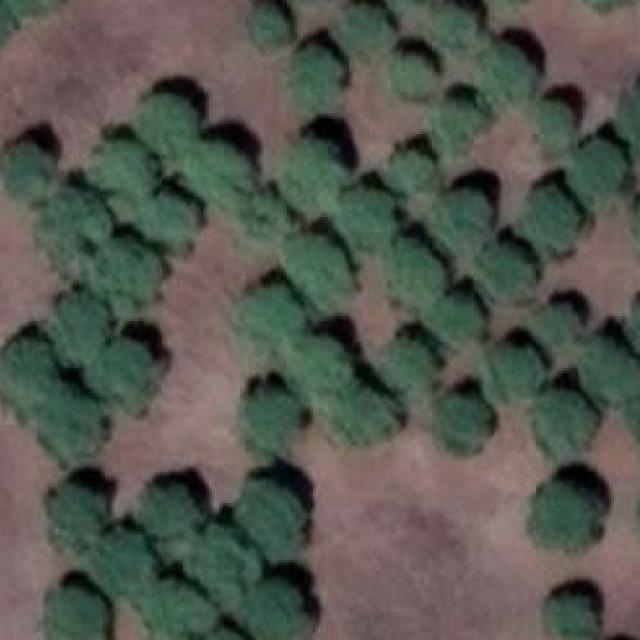Tree: (188, 529, 259, 605), (89, 241, 162, 314), (136, 575, 217, 640), (237, 482, 304, 558), (39, 194, 107, 262), (136, 487, 199, 560), (89, 342, 152, 407), (183, 144, 250, 205), (287, 238, 349, 303), (531, 485, 591, 551), (237, 584, 307, 640), (281, 142, 342, 205), (39, 396, 102, 456), (91, 141, 152, 202), (240, 391, 300, 451), (0, 340, 50, 412), (284, 340, 349, 395), (536, 392, 593, 454), (237, 288, 304, 340), (92, 532, 148, 594), (330, 392, 396, 444), (580, 340, 640, 397), (388, 238, 442, 298), (53, 293, 105, 355), (336, 191, 392, 248), (429, 191, 489, 243), (570, 142, 624, 198), (478, 46, 533, 100), (429, 106, 481, 161), (526, 191, 578, 246), (138, 98, 193, 150), (47, 588, 102, 640), (484, 349, 541, 399), (434, 397, 486, 449), (53, 488, 100, 544), (479, 245, 531, 295), (5, 144, 50, 197), (340, 7, 390, 54), (382, 339, 432, 386), (427, 298, 479, 343), (546, 596, 596, 640), (424, 7, 476, 49), (294, 49, 336, 101), (138, 199, 196, 236), (536, 101, 573, 156), (390, 56, 434, 96), (533, 305, 580, 342), (250, 4, 287, 49), (386, 155, 432, 189), (247, 199, 289, 234), (619, 87, 640, 153), (0, 0, 61, 16), (635, 397, 640, 449), (635, 202, 640, 246)
